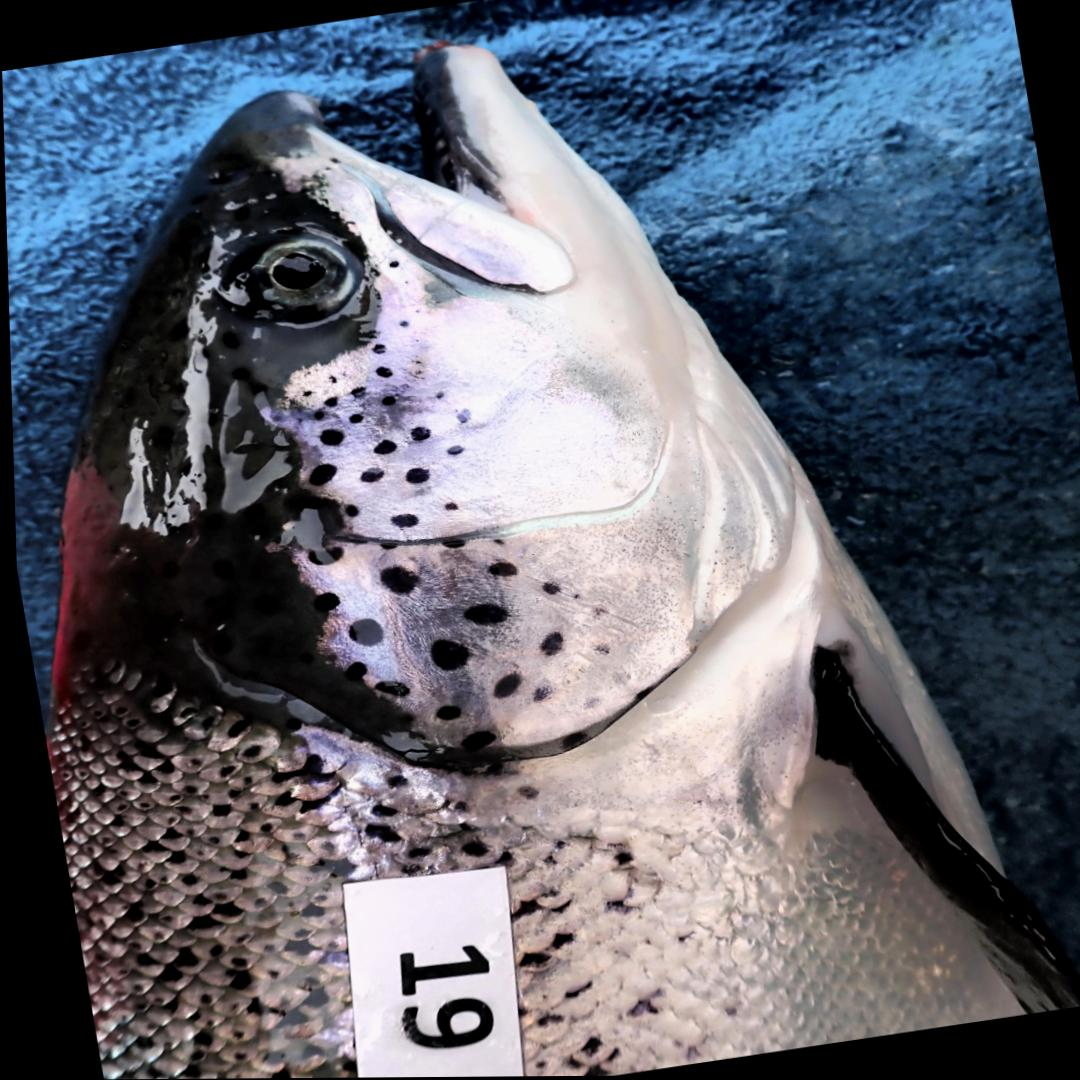spot: (424, 639, 465, 671), (458, 603, 503, 627), (376, 567, 413, 595), (343, 619, 380, 646), (454, 730, 493, 753), (488, 674, 517, 699), (302, 546, 340, 565), (306, 463, 332, 487), (370, 681, 404, 698), (534, 632, 558, 656), (483, 561, 514, 578), (308, 593, 335, 612), (315, 428, 341, 446), (558, 732, 584, 750), (429, 705, 456, 721), (525, 685, 548, 703), (402, 467, 426, 484), (341, 661, 362, 680), (388, 514, 415, 528), (370, 440, 394, 455), (406, 426, 428, 442), (357, 469, 380, 484), (537, 581, 556, 595), (339, 504, 357, 518), (372, 366, 389, 380), (586, 607, 605, 619), (589, 645, 607, 657), (452, 409, 467, 423), (377, 395, 393, 407), (344, 413, 360, 425), (430, 389, 446, 401), (308, 409, 323, 421), (321, 396, 336, 408), (443, 446, 460, 456), (440, 540, 461, 548), (440, 503, 455, 512), (346, 388, 361, 397), (377, 543, 392, 551), (369, 344, 381, 354), (298, 389, 310, 398), (385, 261, 397, 269), (395, 320, 407, 328), (488, 539, 499, 545), (326, 376, 334, 384), (568, 594, 575, 599)
